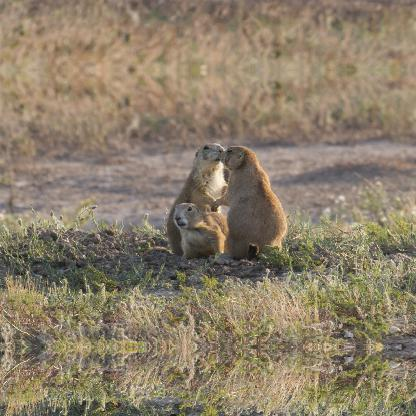Squirrel: (210, 144, 288, 258), (165, 139, 231, 261), (170, 198, 228, 260)
